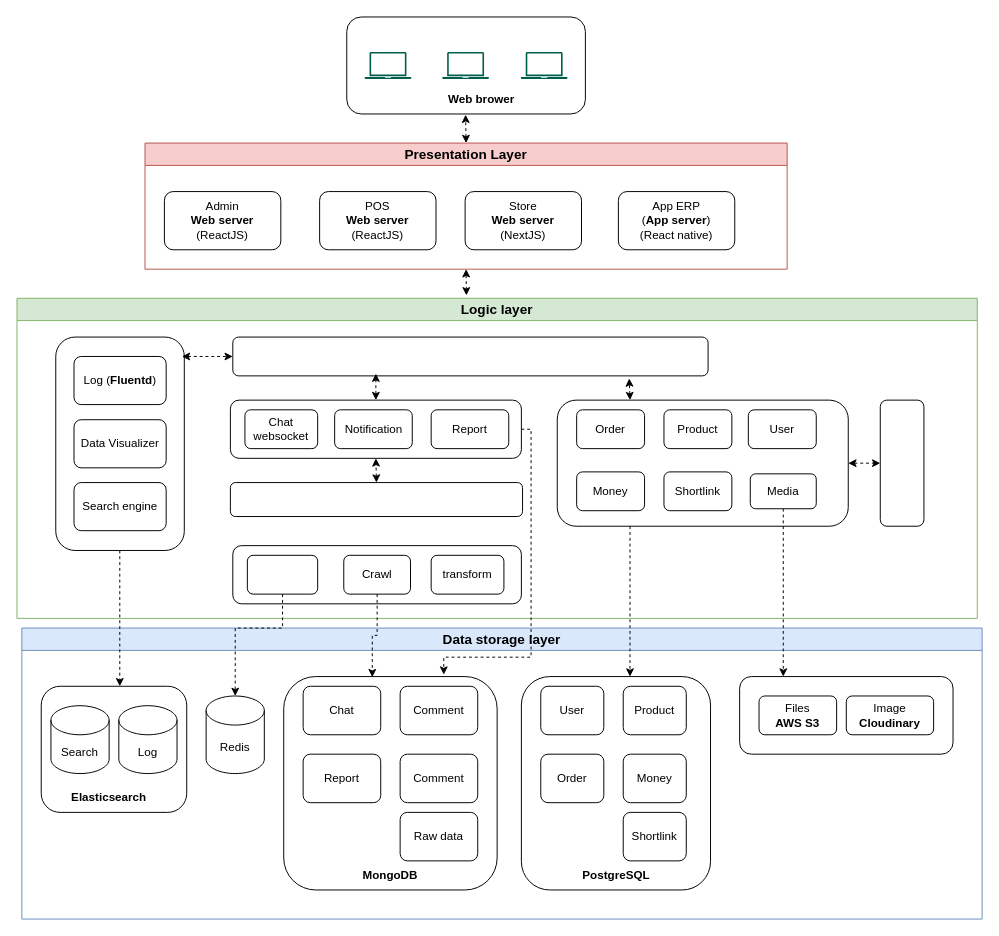
Some shapes in this 999 by 936 pixel diagram are drawn without their labels. Here are the shapes that lost their labels. From the top down, the centre of each, then its label:
point (470, 356): Gateway service (nginx)
point (901, 462): Message queue (RabbitMQ)
point (376, 499): Message queue (Kafka)
point (282, 574): cronjob
